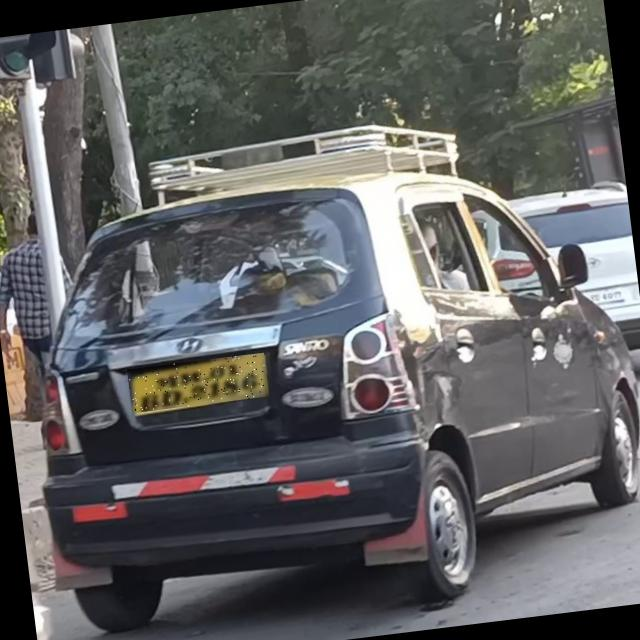Plate: (128, 354, 270, 414)
